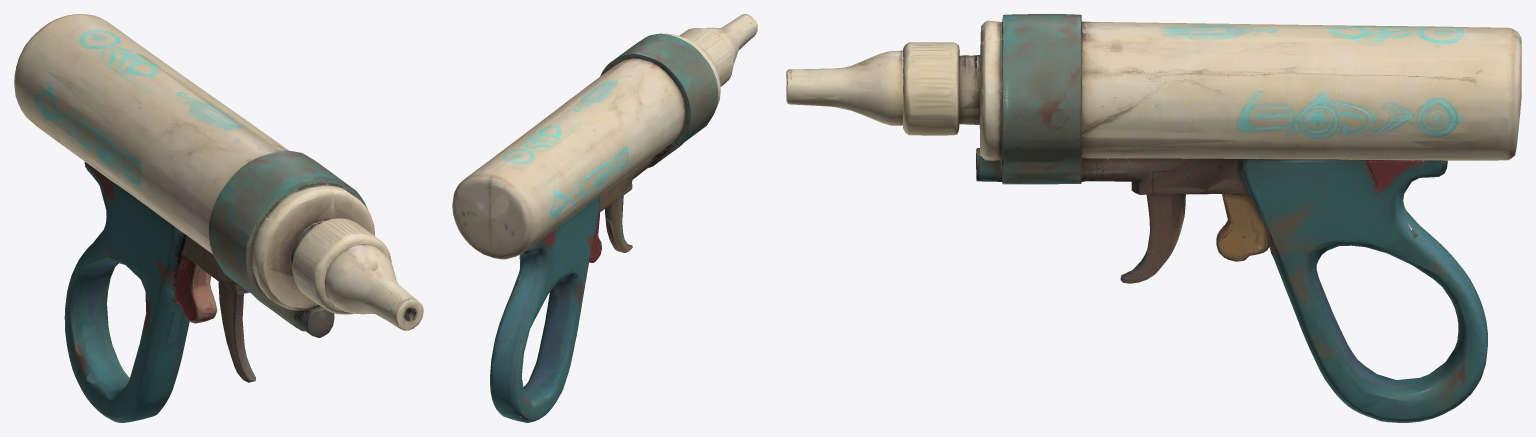
File: glue_gun.glb
3 views of the same model, side by side, from view 1: azimuth 30°, elevation 25°; view 2: azimuth 150°, elevation 25°; view 3: azimuth 270°, elevation 25° (orthographic). The views are drawn at different scales.
Visible parts, largest first — view 1: model, mesh_lod; view 2: model, mesh_lod; view 3: model, mesh_lod.
Boxes of the visible parts, x1,y1,x2,y2 form: model: (14,14,423,422); mesh_lod: (15,14,416,421); model: (452,14,757,422); mesh_lod: (452,16,757,420); model: (786,14,1521,422); mesh_lod: (787,15,1521,421).
Bounding box in the file's own units: 0.0709 × 0.2016 × 0.34.
Materials: 1 (1 with a texture image).
